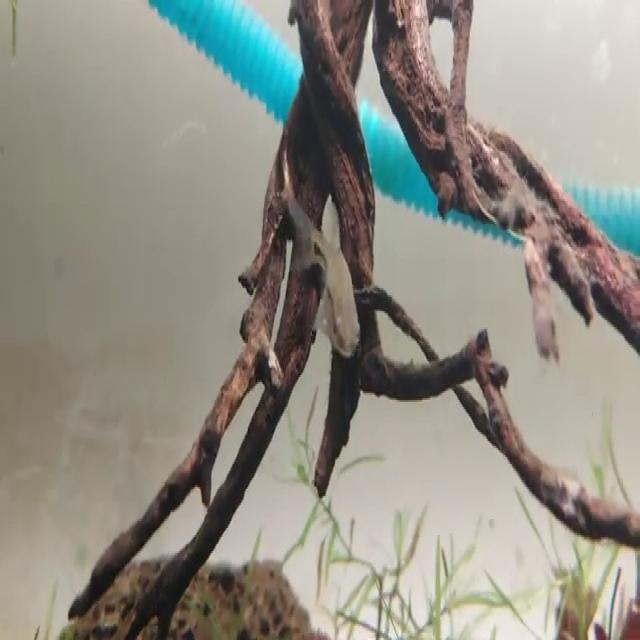Cakil Baligi: (294, 210, 364, 370)
